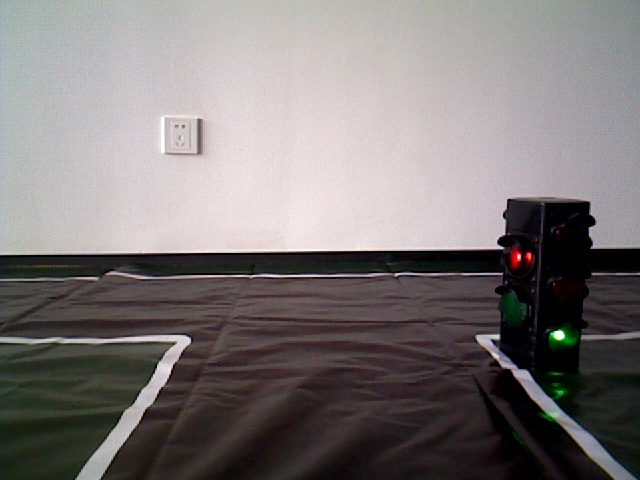green: (506, 198, 582, 374)
